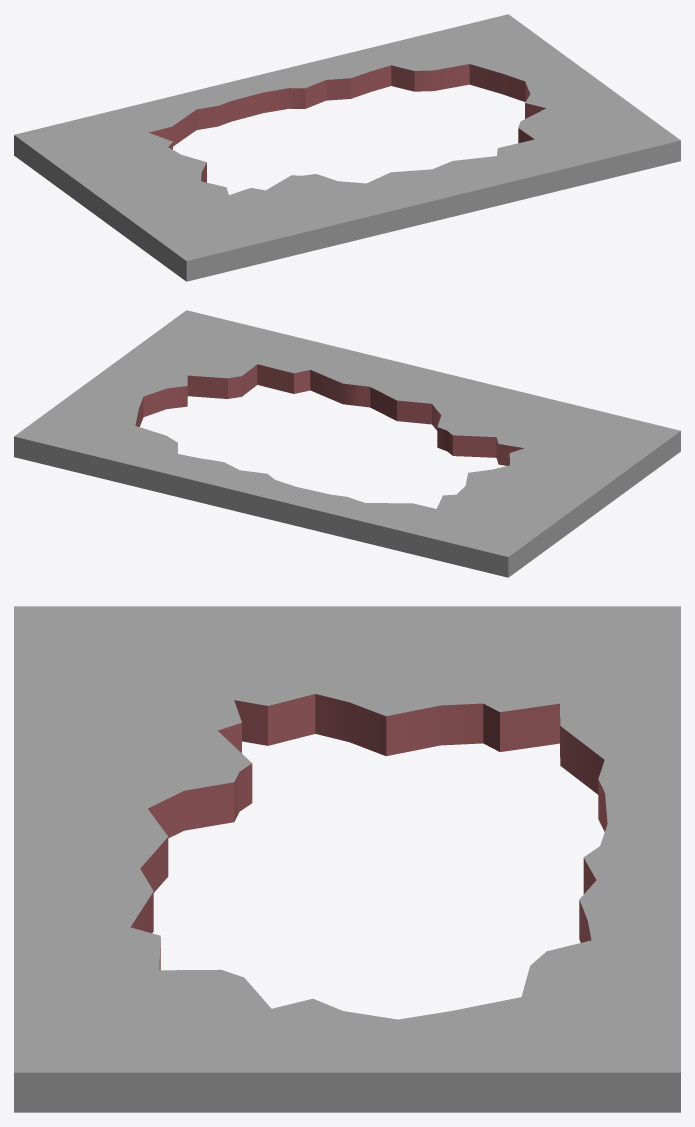
File: dakgat1.fbx
3 views of the same model, one above another, from view 1: azimuth 30°, elevation 25°; view 2: azimuth 150°, elevation 25°; view 3: azimuth 270°, elevation 25° (orthographic). The views are drawn at different scales.
Parts seen in each view (by area): view 1: pCube2; view 2: pCube2; view 3: pCube2.
Part boxes in pixels (x1,y1,x2,y2): pCube2: [14, 14, 680, 281]; pCube2: [14, 310, 680, 577]; pCube2: [14, 606, 680, 1112].
Bounding box in the file's own units: 21.15 × 0.8447 × 12.78.
